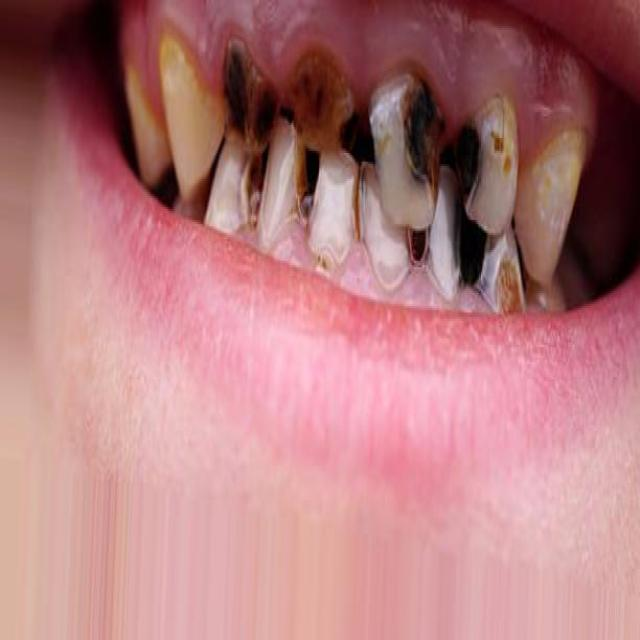caries: (370, 64, 438, 224), (462, 100, 519, 231), (223, 19, 275, 162), (282, 39, 348, 148), (483, 231, 531, 327), (290, 128, 324, 241), (238, 143, 275, 238)
